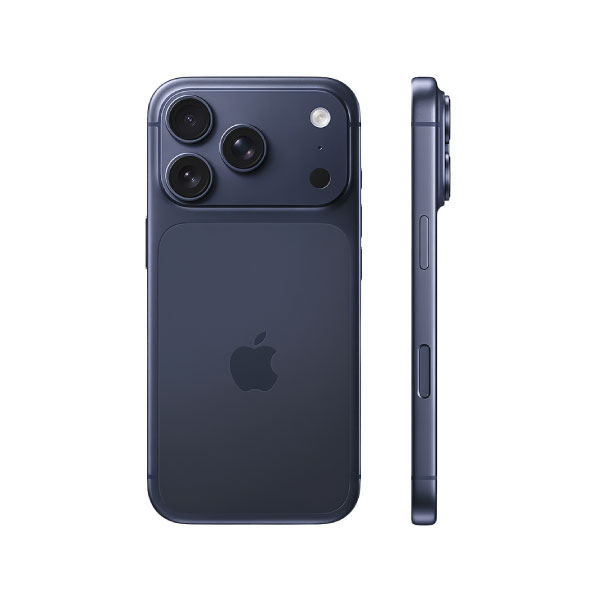IPHONE: (133, 64, 369, 534)
